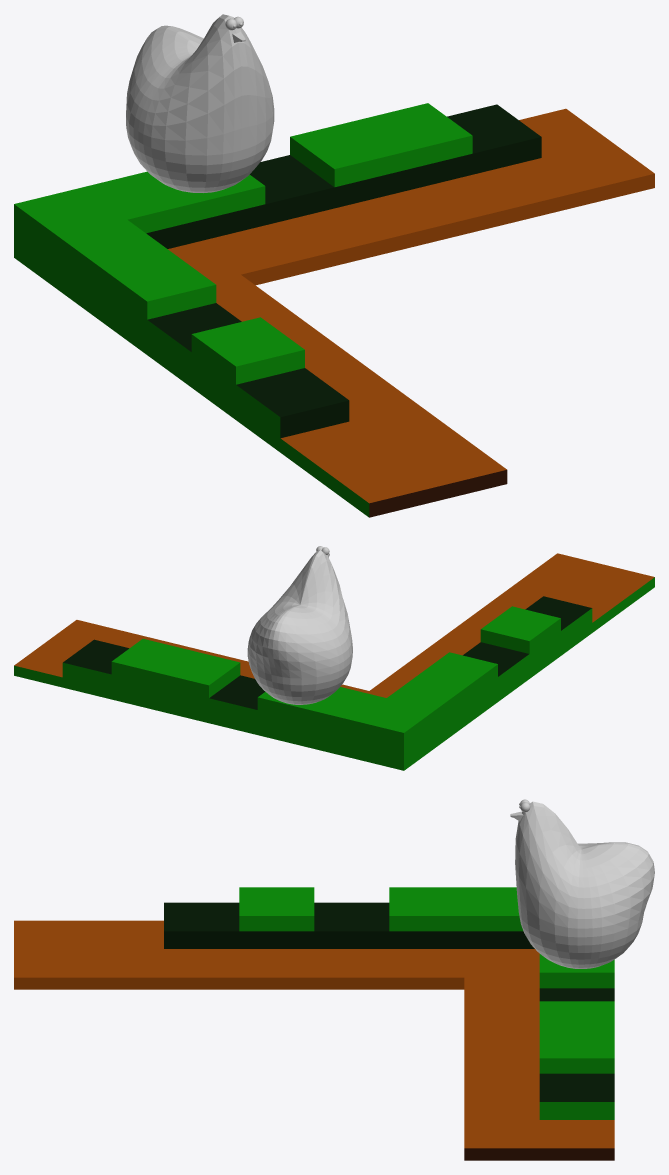
Rendered from background_scene.obj.
The picture shows the model from 3 angles, top to bottom: view 1: azimuth 30°, elevation 25°; view 2: azimuth 150°, elevation 25°; view 3: azimuth 270°, elevation 25°; orthographic projection. The views are drawn at different scales.
Parts seen in each view (by area): view 1: Cube.002_Cube.001, SurfSphere; view 2: Cube.002_Cube.001, SurfSphere; view 3: Cube.002_Cube.001, SurfSphere.
Boxes of the visible parts, x1,y1,x2,y2 form: Cube.002_Cube.001: (14, 103, 654, 517); SurfSphere: (126, 14, 274, 192); Cube.002_Cube.001: (14, 553, 654, 770); SurfSphere: (247, 550, 352, 704); Cube.002_Cube.001: (14, 887, 614, 1160); SurfSphere: (515, 801, 654, 968).
Size of the model in its own units: 9.74 by 4 by 11.58.
